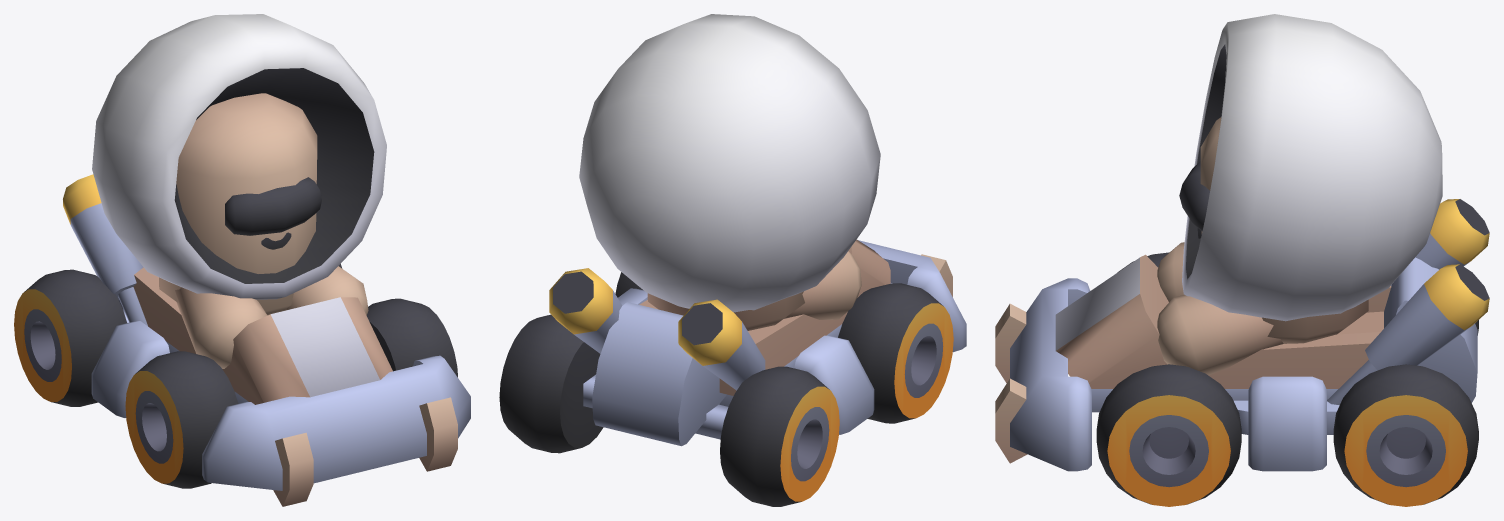
The model's file is kart-oozi.glb.
3 views of the same model, side by side, from view 1: azimuth 30°, elevation 25°; view 2: azimuth 150°, elevation 25°; view 3: azimuth 270°, elevation 25° (orthographic). The views are drawn at different scales.
Visible parts, largest first — view 1: character, kart-oozi, wheel-back-right, wheel-front-right, wheel-front-left; view 2: character, kart-oozi, wheel-back-right, wheel-front-right, wheel-back-left; view 3: character, kart-oozi, wheel-front-left, wheel-back-left.
Boxes of the visible parts, left/top/right/bottom form: character: left=92, top=14, right=386, bottom=368; kart-oozi: left=63, top=174, right=470, bottom=506; wheel-back-right: left=14, top=269, right=126, bottom=406; wheel-front-right: left=125, top=351, right=238, bottom=488; wheel-front-left: left=366, top=298, right=457, bottom=377; character: left=579, top=14, right=880, bottom=330; kart-oozi: left=549, top=239, right=966, bottom=446; wheel-back-right: left=720, top=366, right=839, bottom=506; wheel-front-right: left=838, top=283, right=953, bottom=423; wheel-back-left: left=499, top=314, right=603, bottom=453; character: left=1157, top=14, right=1442, bottom=375; kart-oozi: left=995, top=199, right=1489, bottom=471; wheel-front-left: left=1096, top=364, right=1241, bottom=506; wheel-back-left: left=1333, top=364, right=1478, bottom=506.
Bounding box in the file's own units: 0.9743 × 1.33 × 1.43.
1 material, 1 textured.
